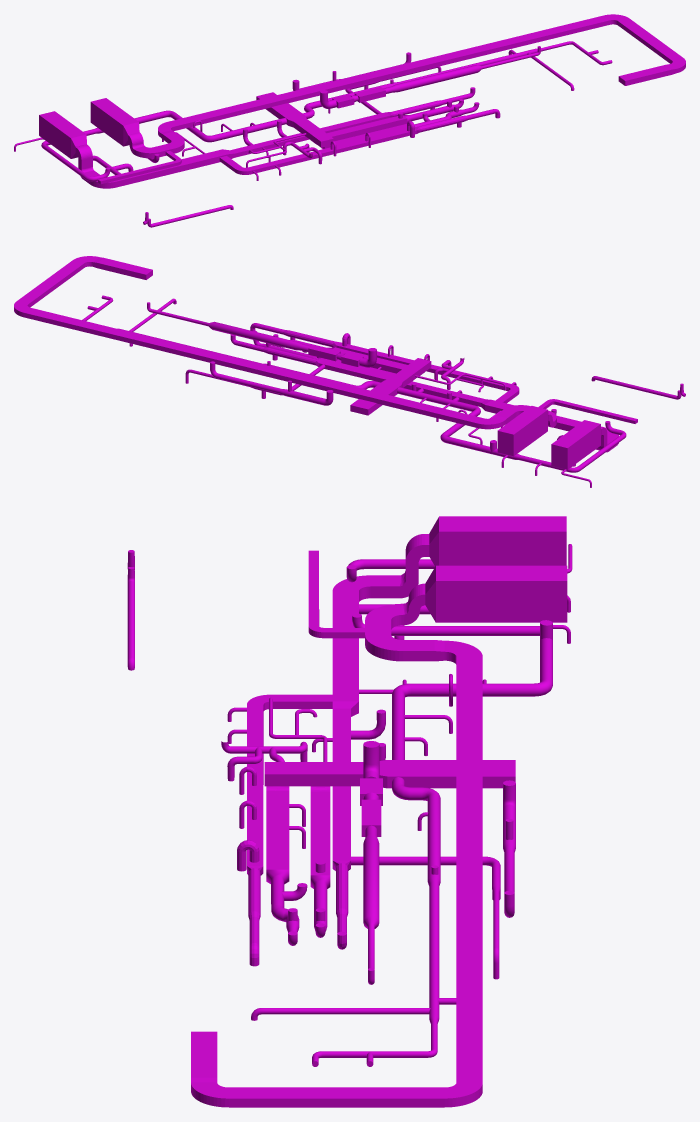
The model's file is vent.glb.
3 views of the same model, one above another, from view 1: azimuth 30°, elevation 25°; view 2: azimuth 150°, elevation 25°; view 3: azimuth 270°, elevation 25° (orthographic). The views are drawn at different scales.
Parts seen in each view (by area): view 1: 02, 01, 03, 04; view 2: 02, 01, 03, 04, 05; view 3: 02, 01, 03, 04, 05.
Part boxes in pixels (x1=…): 02: x1=39, y1=14, x2=685, y2=184; 01: x1=14, y1=41, x2=612, y2=181; 03: x1=75, y1=66, x2=500, y2=188; 04: x1=143, y1=46, x2=540, y2=227; 02: x1=14, y1=256, x2=637, y2=469; 01: x1=82, y1=295, x2=626, y2=487; 03: x1=185, y1=323, x2=618, y2=466; 04: x1=147, y1=302, x2=685, y2=399; 05: x1=210, y1=361, x2=333, y2=405; 02: x1=191, y1=516, x2=567, y2=1107; 01: x1=251, y1=544, x2=572, y2=1066; 03: x1=227, y1=534, x2=500, y2=979; 04: x1=127, y1=550, x2=382, y2=984; 05: x1=503, y1=780, x2=515, y2=917.
Size of the model in its own units: 135 by 10.06 by 44.39.
